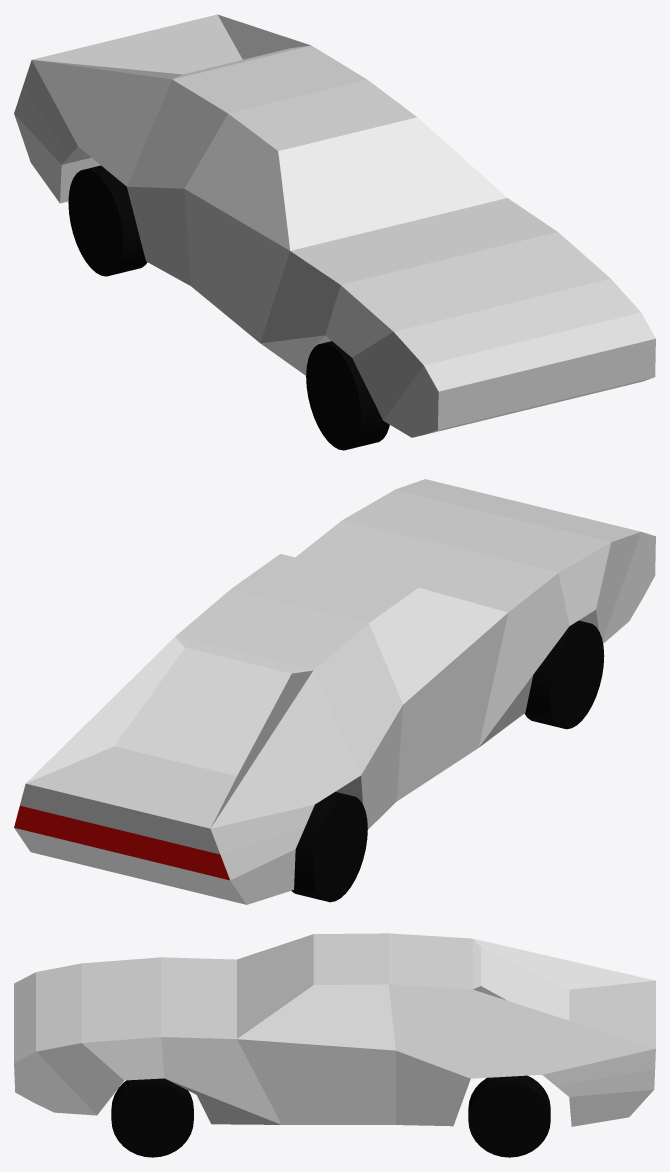
Rendered from Miami V8.fbx.
The picture shows the model from 3 angles, top to bottom: view 1: azimuth 30°, elevation 25°; view 2: azimuth 150°, elevation 25°; view 3: azimuth 270°, elevation 25°; orthographic projection. The views are drawn at different scales.
Parts seen in each view (by area): view 1: Miami V8, RR, FR; view 2: Miami V8, RR, FR; view 3: Miami V8, RL, FL.
Boxes of the visible parts, x1,y1,x2,y2 form: Miami V8: (14,14,655,437); RR: (68,165,147,276); FR: (306,341,389,450); Miami V8: (14,479,655,904); RR: (291,791,367,902); FR: (524,620,604,729); Miami V8: (14,933,655,1126); RL: (468,1075,550,1157); FL: (111,1078,193,1157).
Bounding box in the file's own units: 371 × 299 × 1127.
